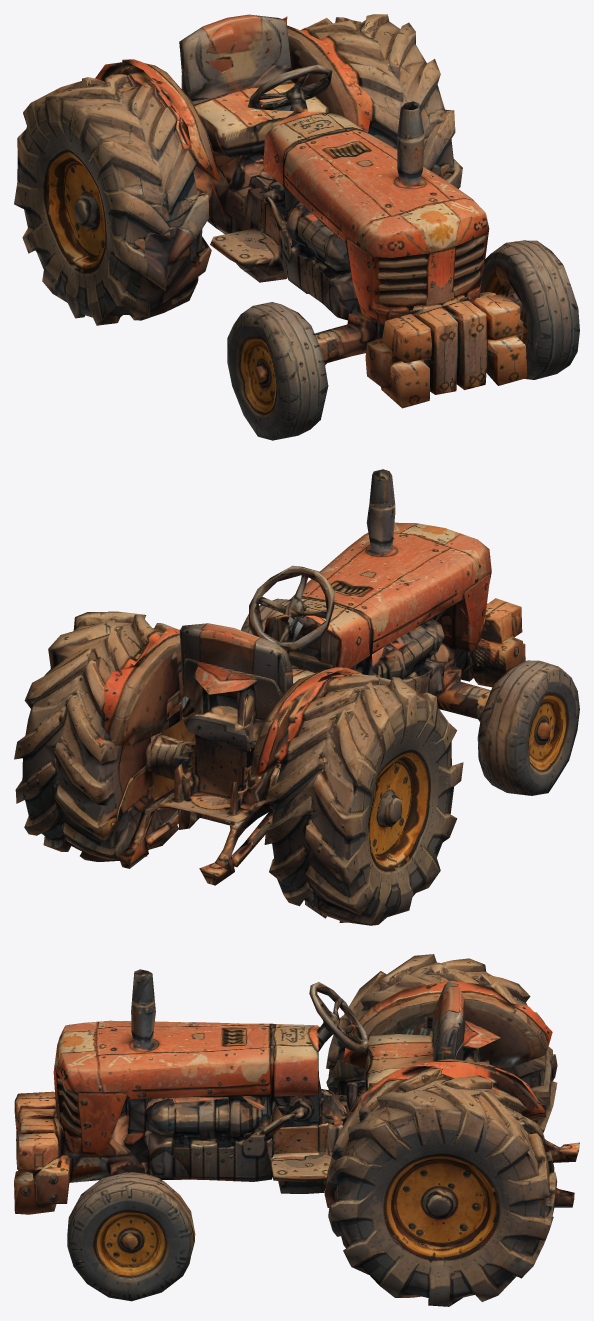
Rendered from Settle_Tractor.fbx.
3 views of the same model, one above another, from view 1: azimuth 30°, elevation 25°; view 2: azimuth 150°, elevation 25°; view 3: azimuth 270°, elevation 25° (orthographic). The views are drawn at different scales.
Visible parts, largest first — view 1: texture_mapping; view 2: texture_mapping; view 3: texture_mapping.
Part boxes in pixels (<box>): texture_mapping: <box>14,14,579,440</box>; texture_mapping: <box>14,469,579,925</box>; texture_mapping: <box>14,954,579,1306</box>.
Bounding box in the file's own units: 0.6495 × 0.9997 × 0.5297.
1 material, 1 textured.
